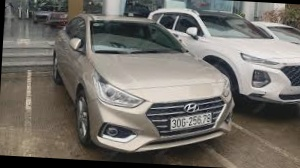Bien-so: (175, 112, 217, 134)
